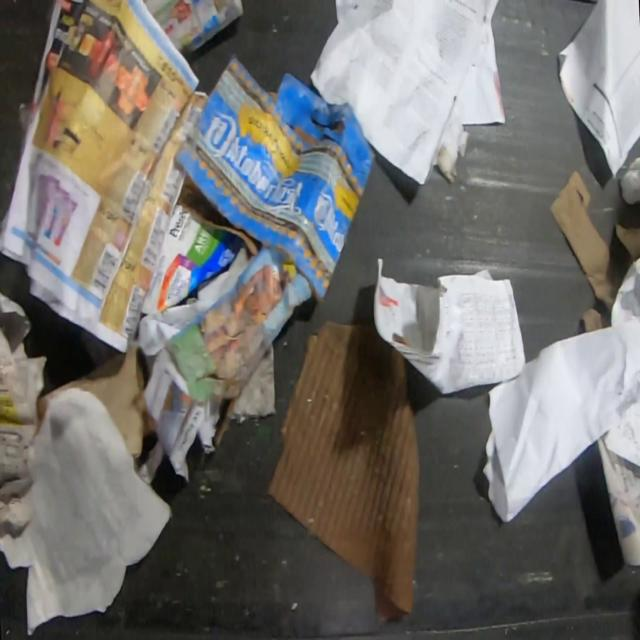cardboard: (174, 55, 374, 303), (268, 322, 421, 618), (38, 348, 158, 465), (550, 170, 640, 309), (142, 203, 245, 315)
soft_plastic: (18, 101, 33, 163)
